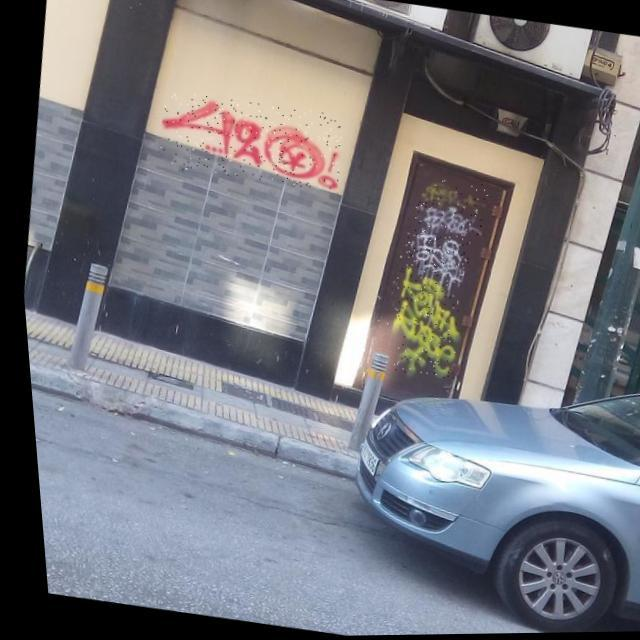-: (152, 89, 346, 194), (377, 267, 464, 382), (396, 229, 470, 289), (409, 200, 482, 242), (416, 176, 488, 218)
